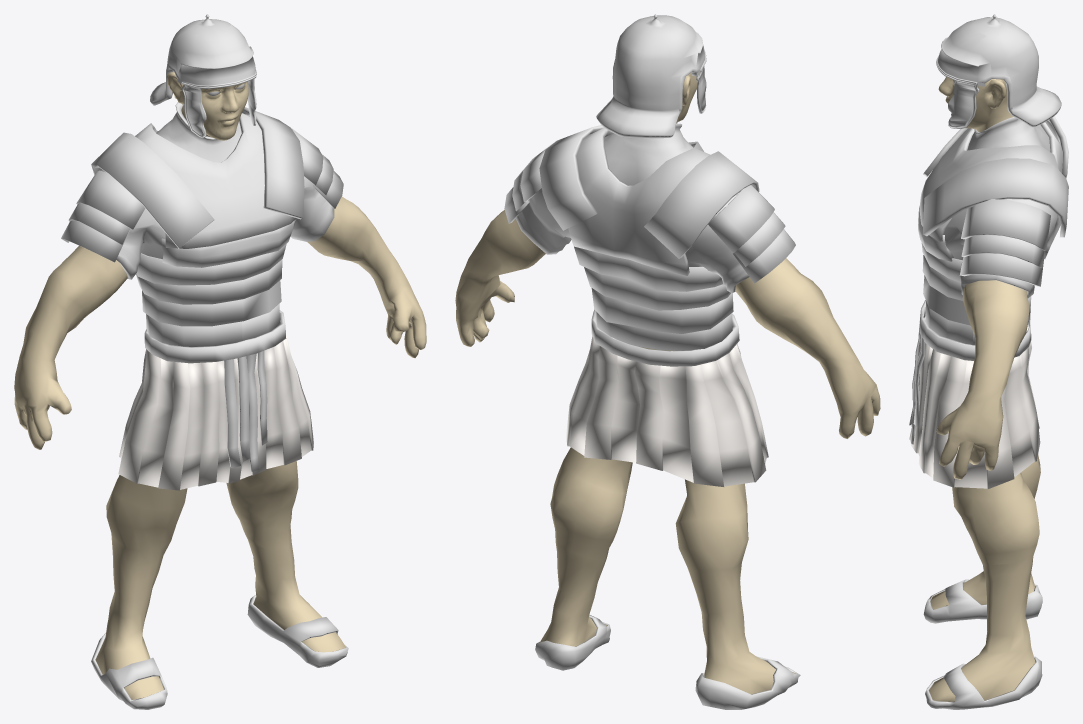
Rendered from LEGIONARIO.fbx.
The picture shows the model from 3 angles, left to right: view 1: azimuth 30°, elevation 25°; view 2: azimuth 150°, elevation 25°; view 3: azimuth 270°, elevation 25°; orthographic projection. The views are drawn at different scales.
Parts seen in each view (by area): view 1: hombrera_low.001; view 2: hombrera_low.001; view 3: hombrera_low.001.
Part boxes in pixels (x1,y1,x2,y2): hombrera_low.001: [14, 14, 426, 709]; hombrera_low.001: [455, 14, 880, 709]; hombrera_low.001: [909, 14, 1068, 709].
Size of the model in its own units: 130 by 207 by 46.18.
